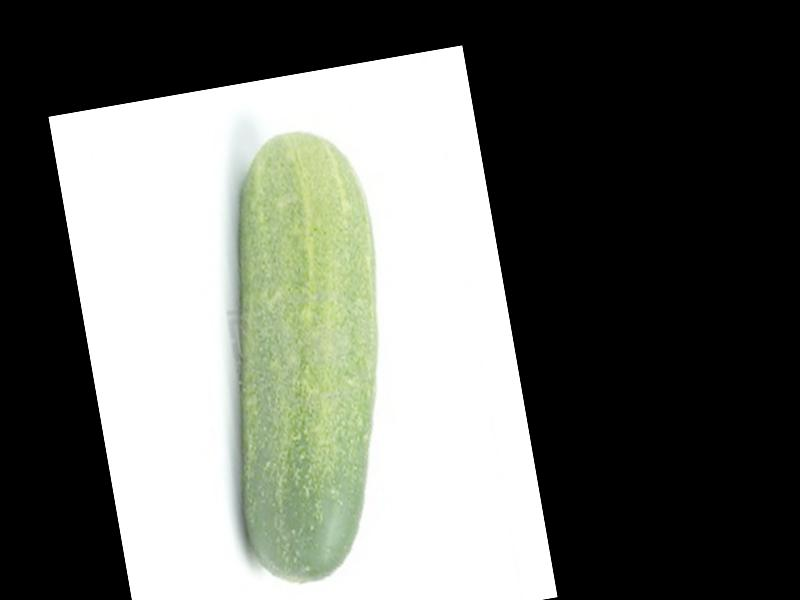Cucumber: (179, 122, 428, 589)
